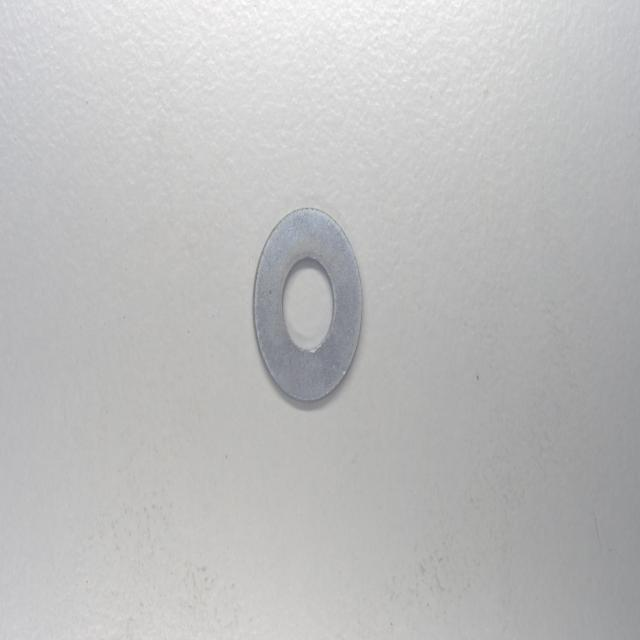washer: (250, 208, 368, 413)
